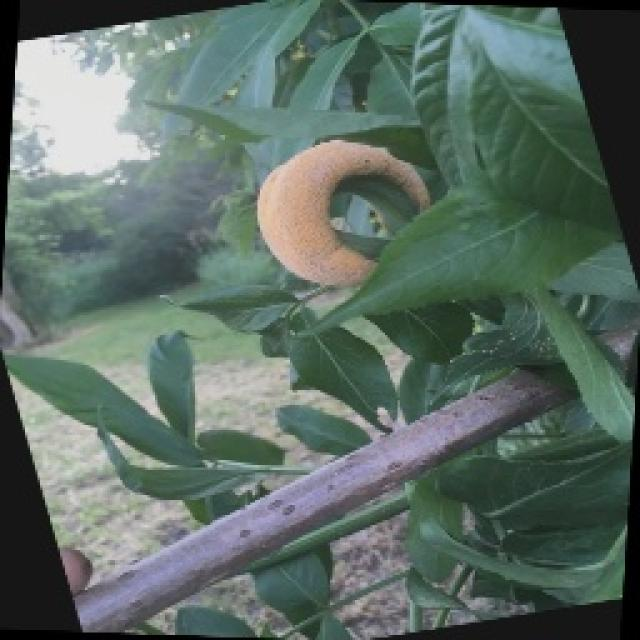Elderberry_rust: (241, 137, 429, 278)
